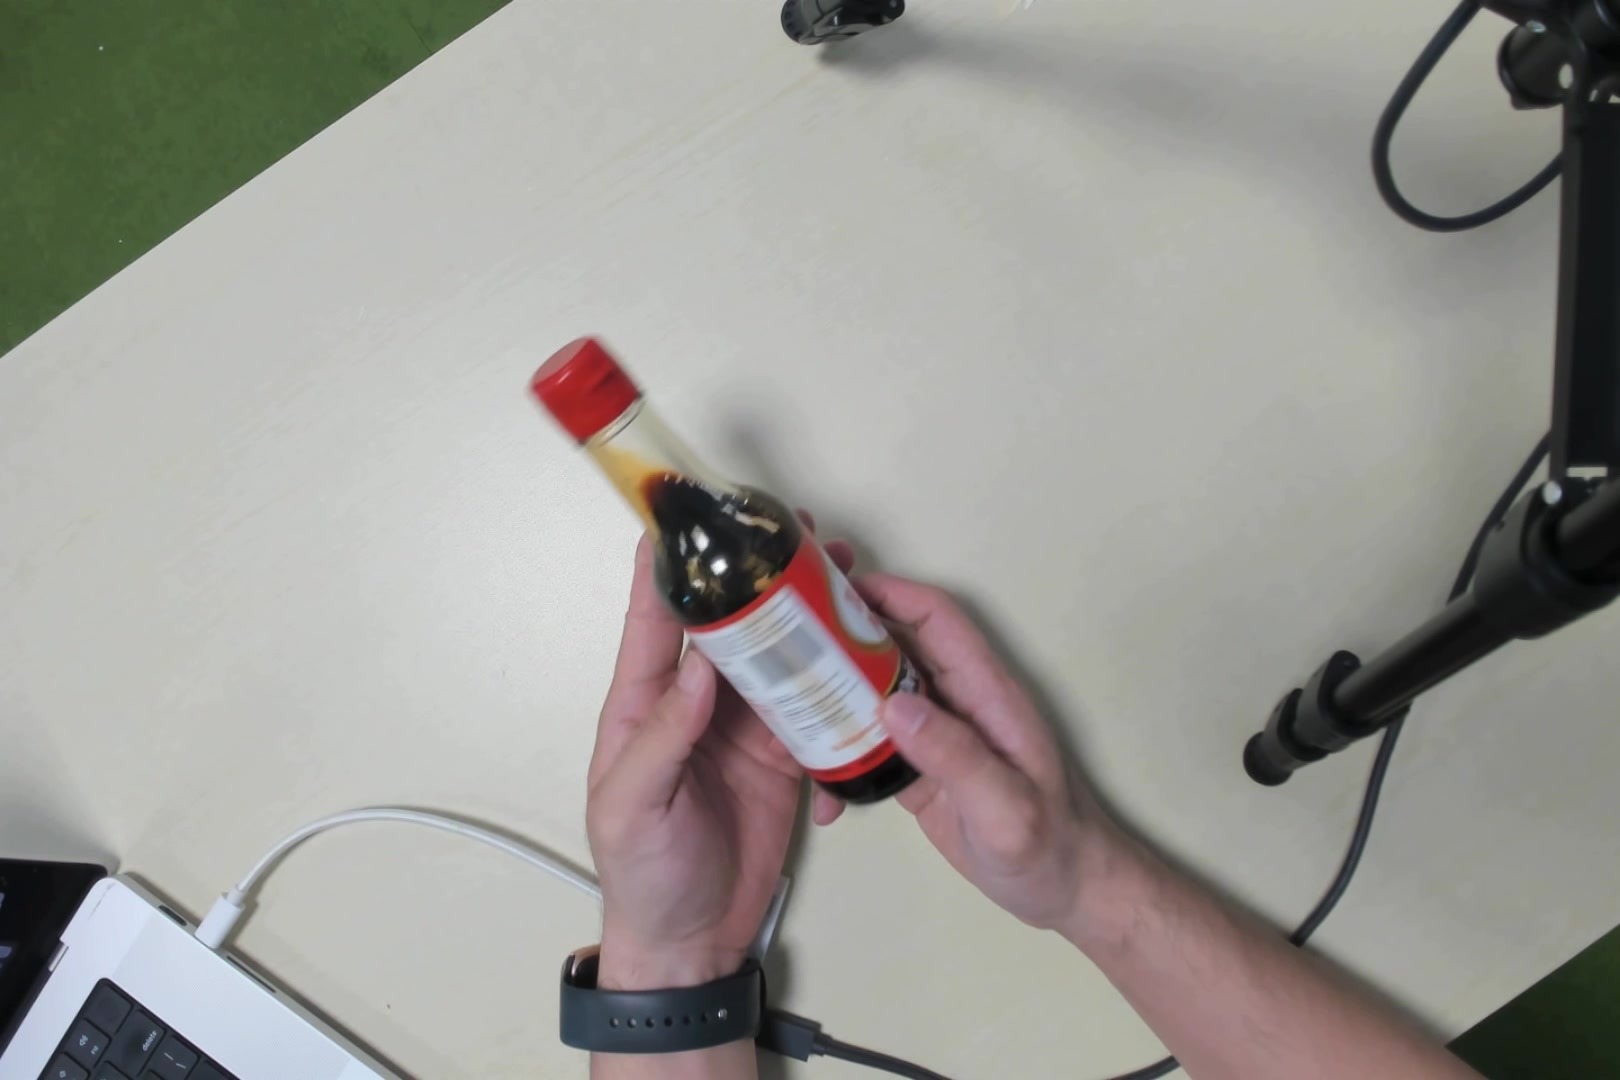OtherSauceDressingSoupbasePaste_200-299g_NonHalal_NonHealthy: (563, 370, 958, 799)
